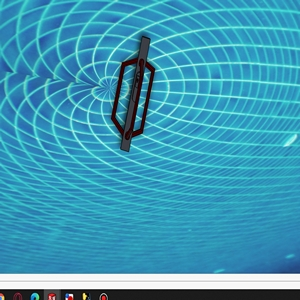submarine: (116, 34, 154, 154)
